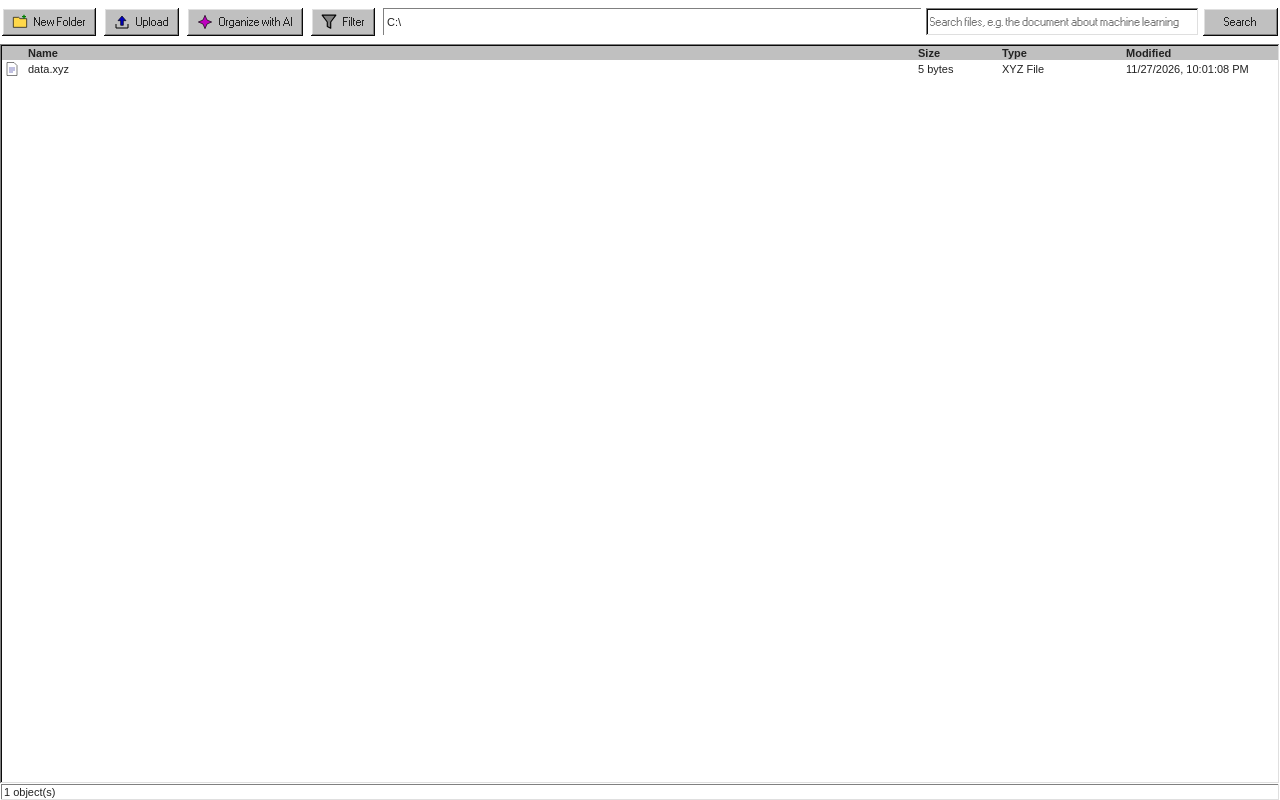
Scenario: Explorer › names the unsupported type when opening a file
This screenshot has width=1280, height=800.
Check: the text "1 object(s)" is shown, box [1,784,1279,799]
Double-click the option "data.xyz 5 bytes XYZ File 11/27/2026, 10:01:08 PM" at (48, 69), box [2,60,1278,78]
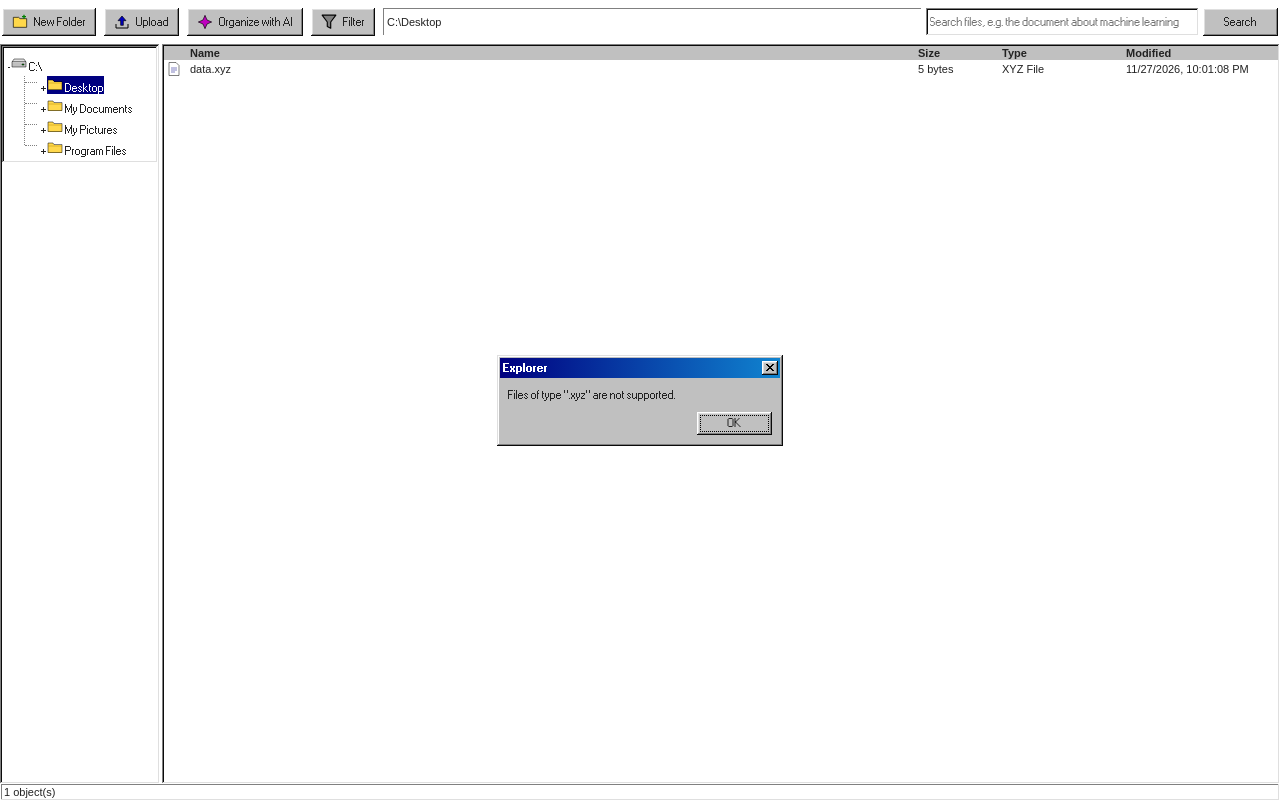
Check: the dialog "Explorer" shows ".xyz", box [508,388,676,400]
